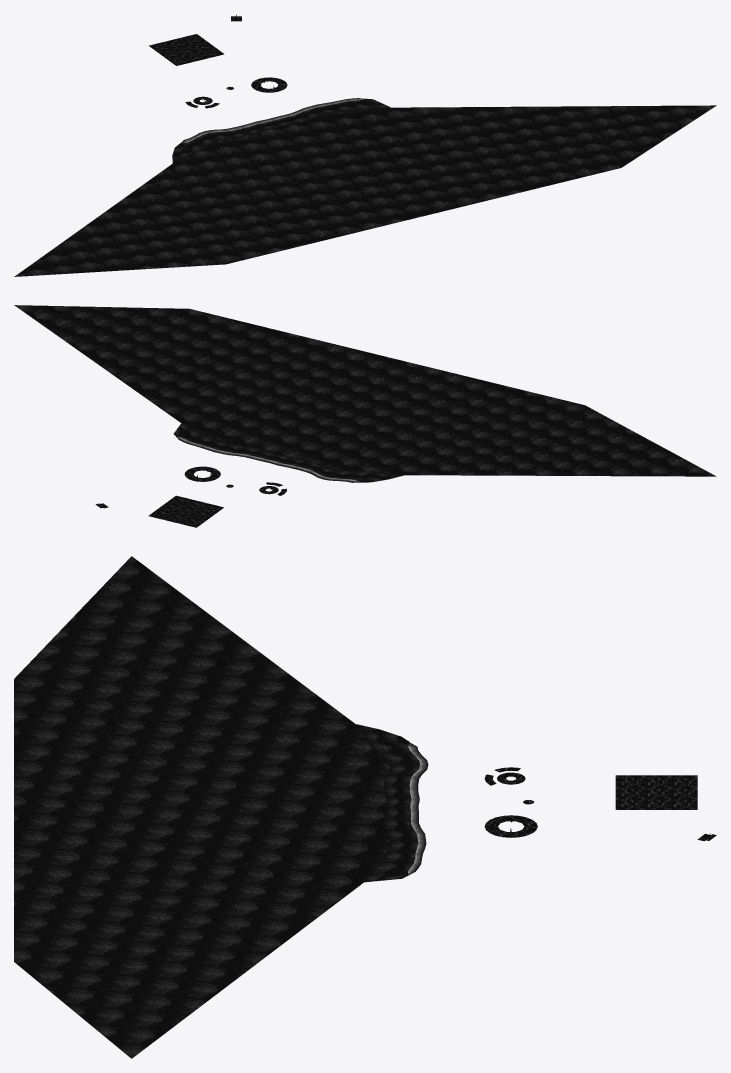
Rendered from sea_bake.dae.
3 renders of one model, top to bottom at view 1: azimuth 30°, elevation 25°; view 2: azimuth 150°, elevation 25°; view 3: azimuth 270°, elevation 25°, orthographic. The views are drawn at different scales.
Visible parts, largest first — view 1: m4, m3, m0, m2; view 2: m4, m3, m0, m2; view 3: m4, m3, m0, m2.
Part boxes in pixels (box(x1,y1,x2,y2)): m4: box(14, 105, 716, 276); m3: box(172, 98, 390, 162); m0: box(149, 16, 287, 108); m2: box(180, 98, 364, 143); m4: box(14, 305, 716, 482); m3: box(174, 423, 403, 482); m0: box(95, 466, 286, 527); m2: box(175, 435, 371, 482); m4: box(14, 556, 401, 1058); m3: box(356, 724, 419, 881); m0: box(484, 767, 716, 841); m2: box(401, 742, 428, 878).
Size of the model in its own units: 58080 by 1248 by 34315.
